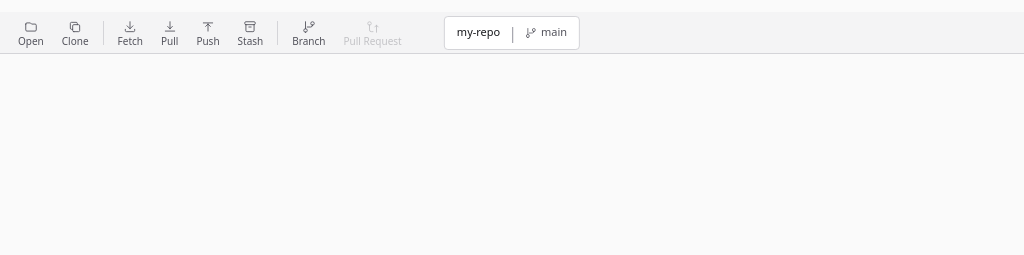
ActionToolbar › Push flyover › opens the push form when Push is clicked
Click the button with test id "toolbar-btn-Push": (208, 32) [188, 16, 228, 50]
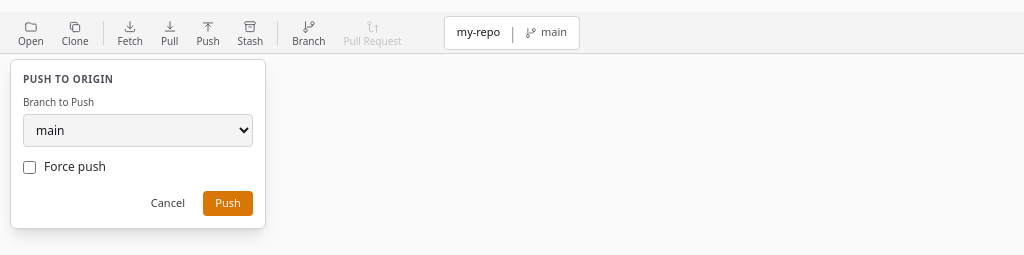
Expected: the heading "Push to Origin" is shown, [23, 72, 114, 86]
